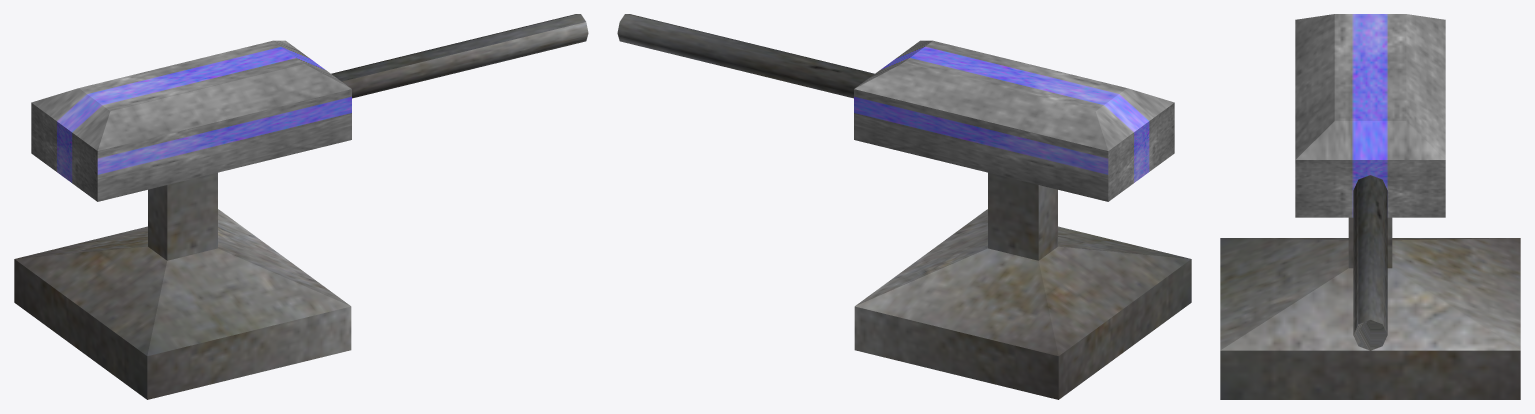
File: Turret.fbx
The picture shows the model from 3 angles, left to right: view 1: azimuth 30°, elevation 25°; view 2: azimuth 150°, elevation 25°; view 3: azimuth 270°, elevation 25°; orthographic projection. The views are drawn at different scales.
Parts seen in each view (by area): view 1: TurretMesh; view 2: TurretMesh; view 3: TurretMesh.
Part boxes in pixels (x1,y1,x2,y2): TurretMesh: (14, 14, 588, 399); TurretMesh: (617, 14, 1191, 399); TurretMesh: (1220, 14, 1520, 399).
Size of the model in its own units: 8.98 by 4.12 by 4.
1 material, 1 textured.
